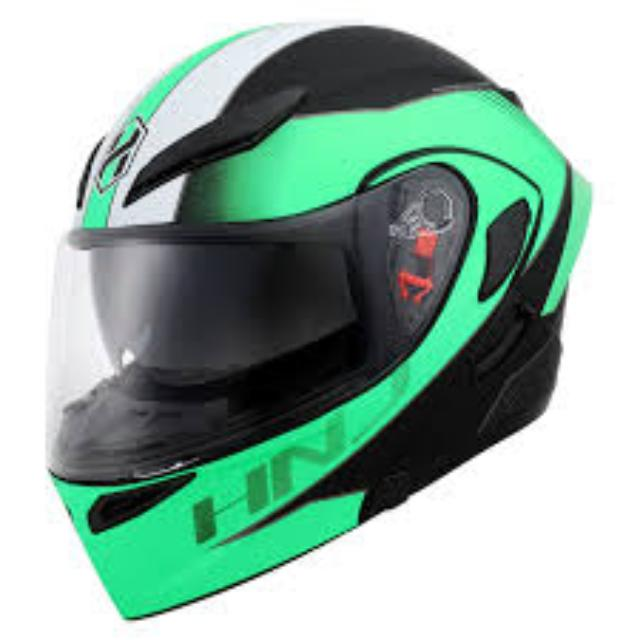motorcycle-helmets: (56, 22, 578, 626)
